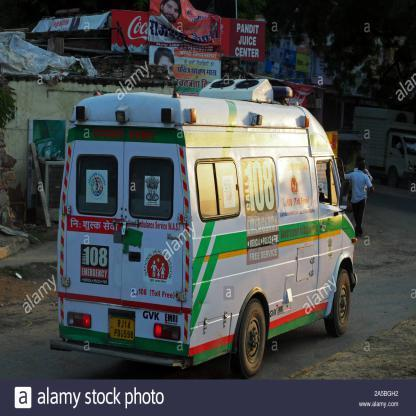Ambulance: (79, 242, 111, 272)
